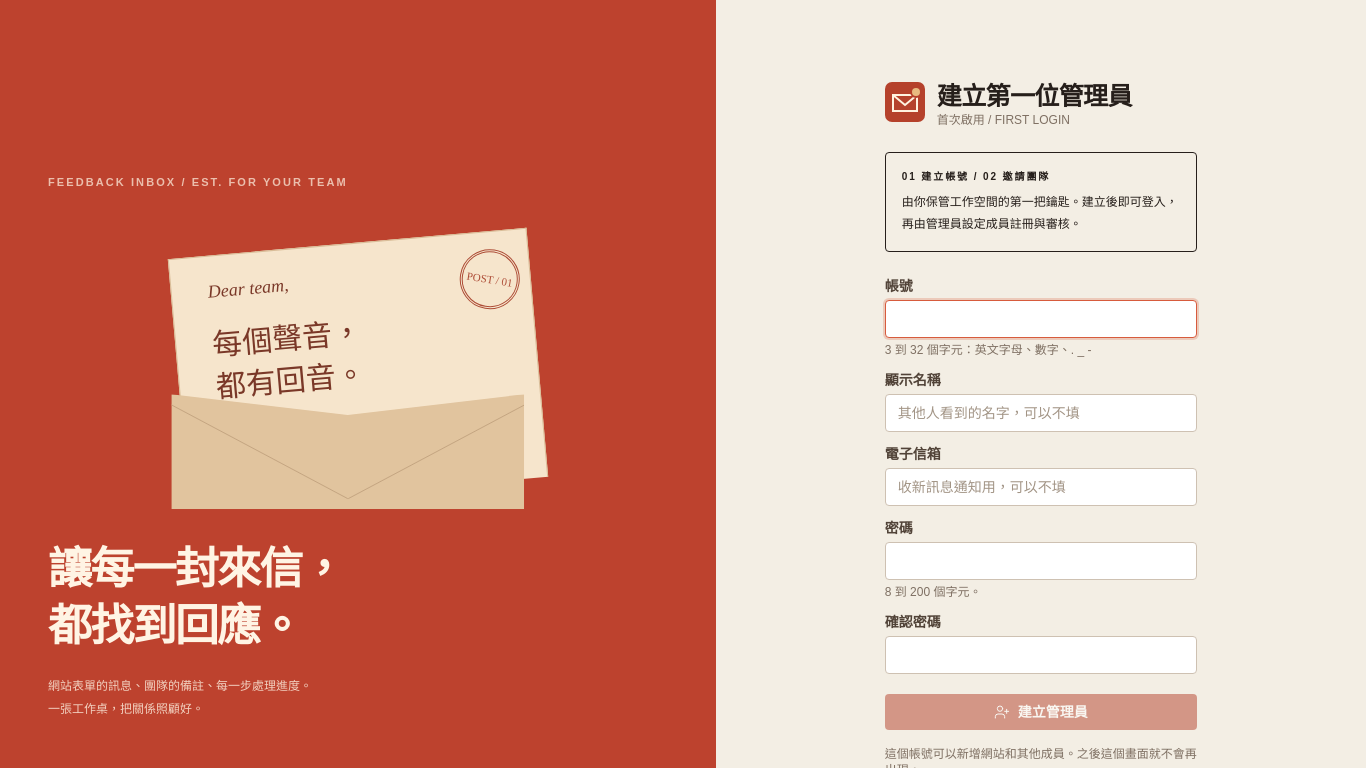
409 refreshes state and closes stale setup
The width and height of the screenshot is (1366, 768).
Step 1. Type "nat" into the field labelled "帳號" → (1041, 319), box [885,300,1197,338]
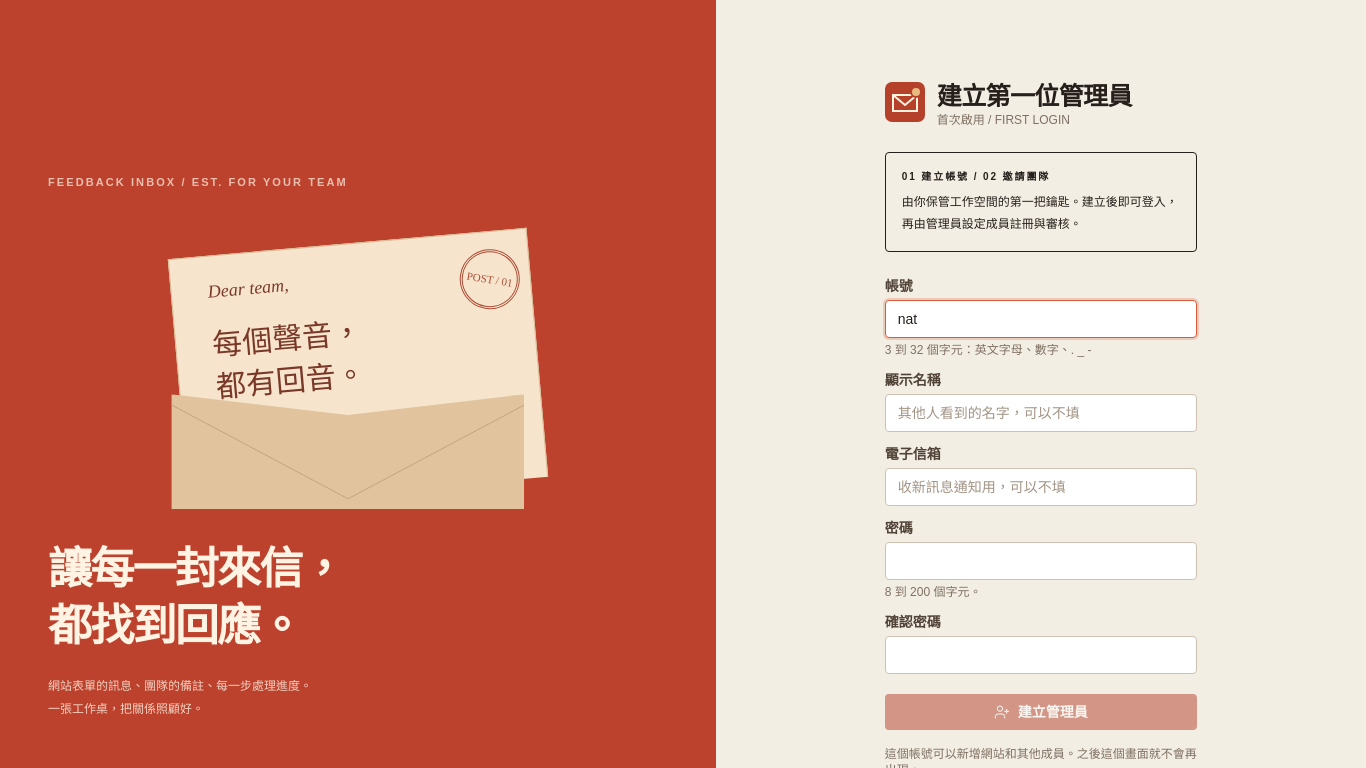
Step 2. Type "correct horse" into the password field labelled "密碼" → (1041, 561), box [885,542,1197,580]
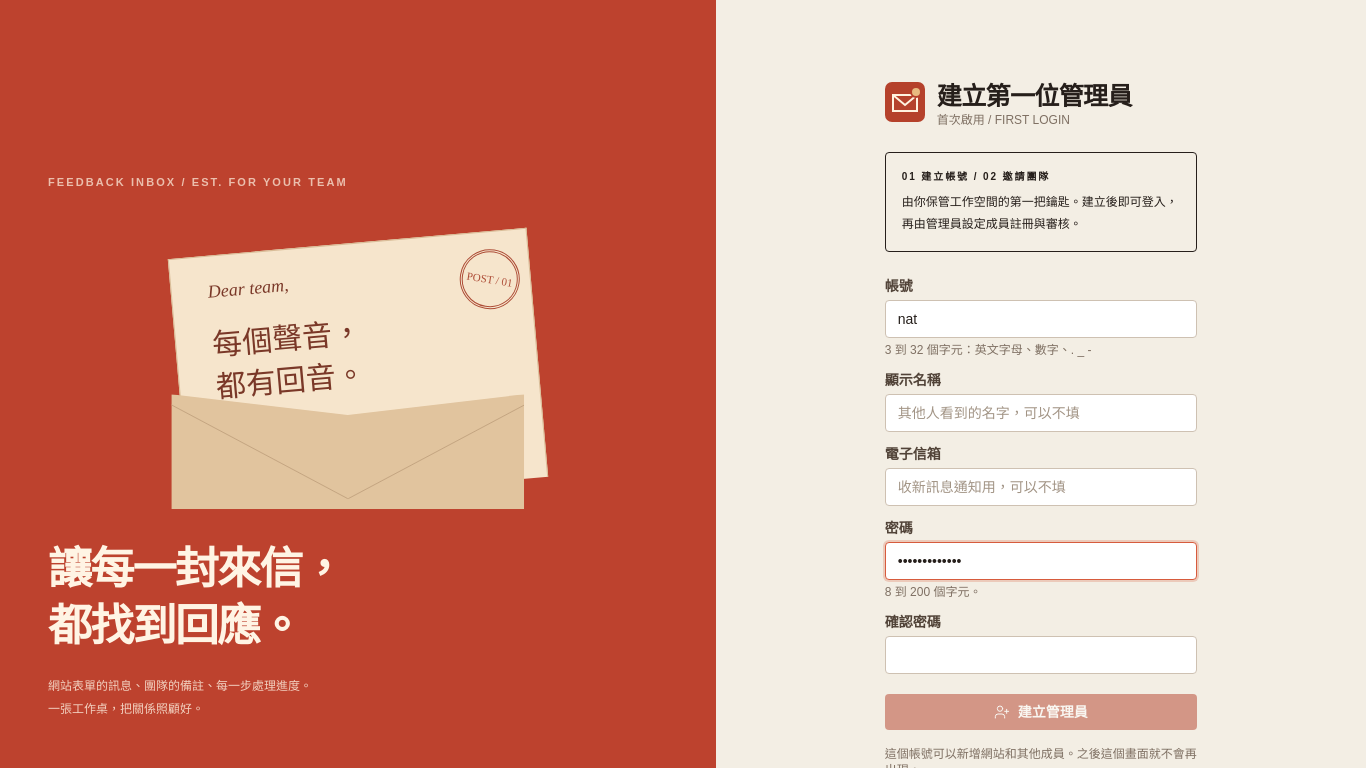
Step 3. Type "correct horse" into the password field labelled "確認密碼" → (1041, 655), box [885,636,1197,674]
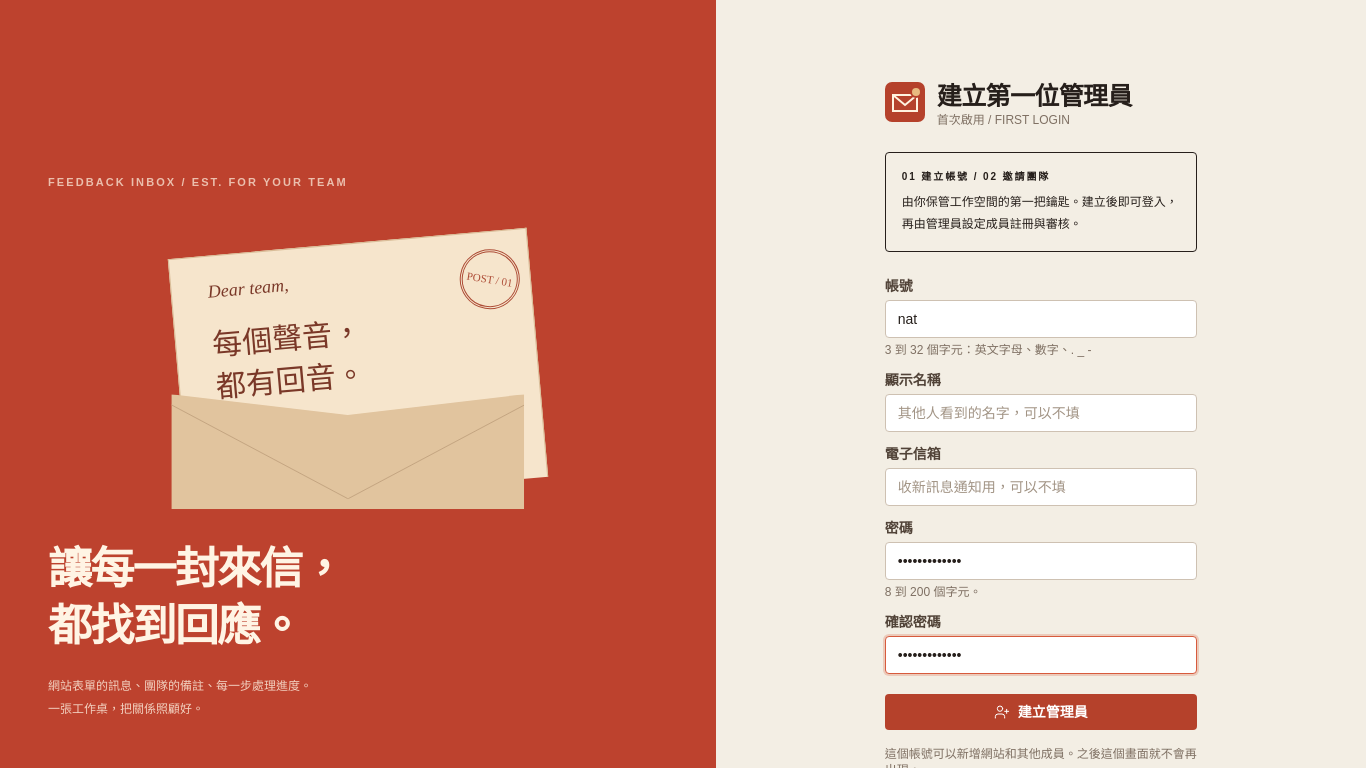
Step 4. Click the button "建立管理員" → (1041, 712), box [885,694,1197,730]
(page scrolled)
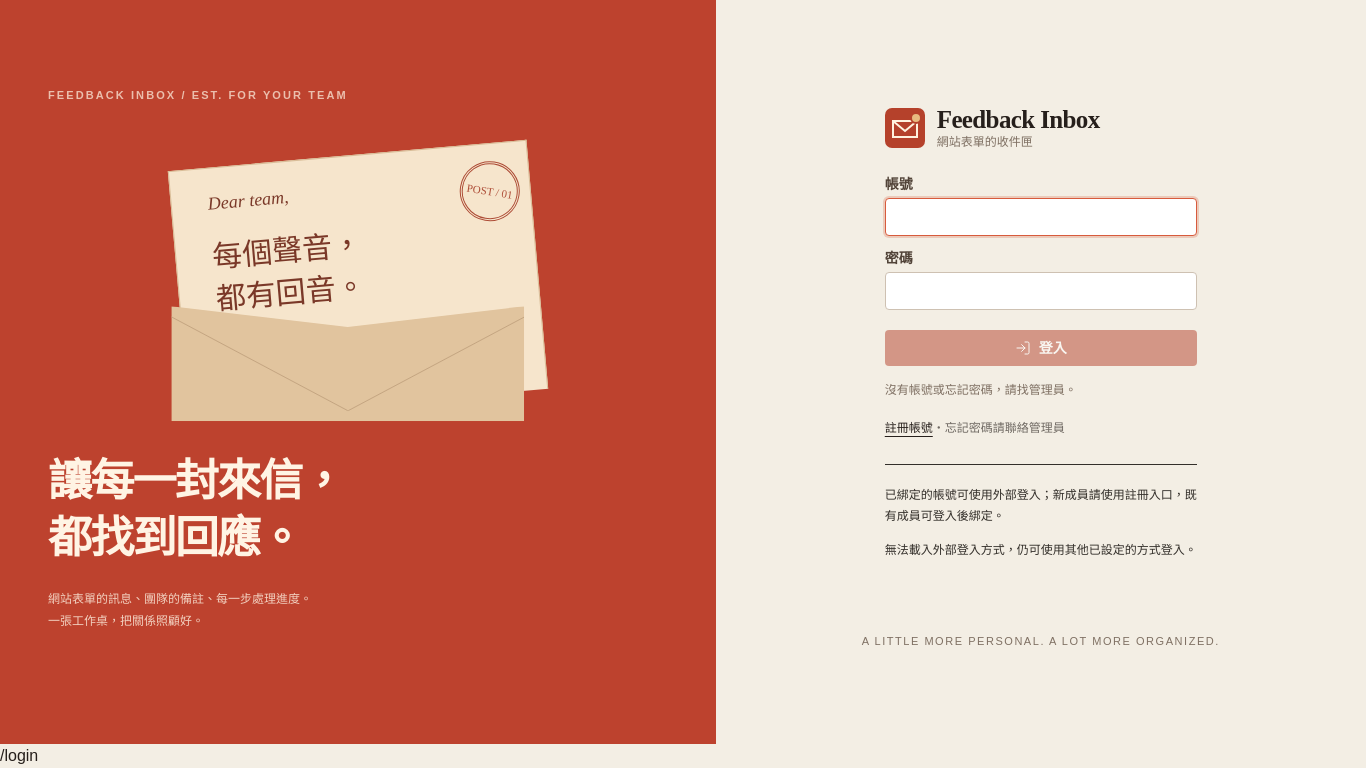
Expected: the button "登入" is shown, [885,330,1197,366]
Expected: the text with test id "location" reads "/login", [0,747,38,764]
